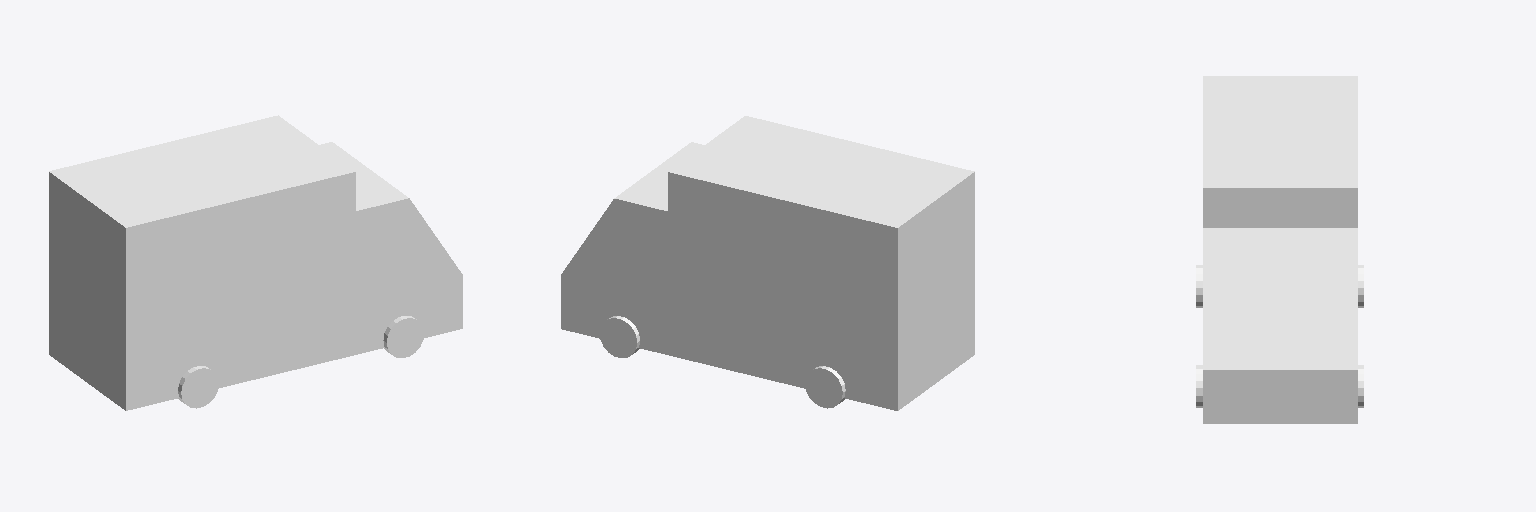
The model's file is truck.obj.
3 renders of one model, left to right at view 1: azimuth 30°, elevation 25°; view 2: azimuth 150°, elevation 25°; view 3: azimuth 270°, elevation 25°, orthographic.
Parts seen in each view (by area): view 1: Car_08; view 2: Car_08; view 3: Car_08.
Boxes of the visible parts, <box> form: Car_08: <box>49,115,462,410</box>; Car_08: <box>561,116,974,410</box>; Car_08: <box>1196,76,1363,423</box>.
Size of the model in its own units: 121 by 66.63 by 51.85.